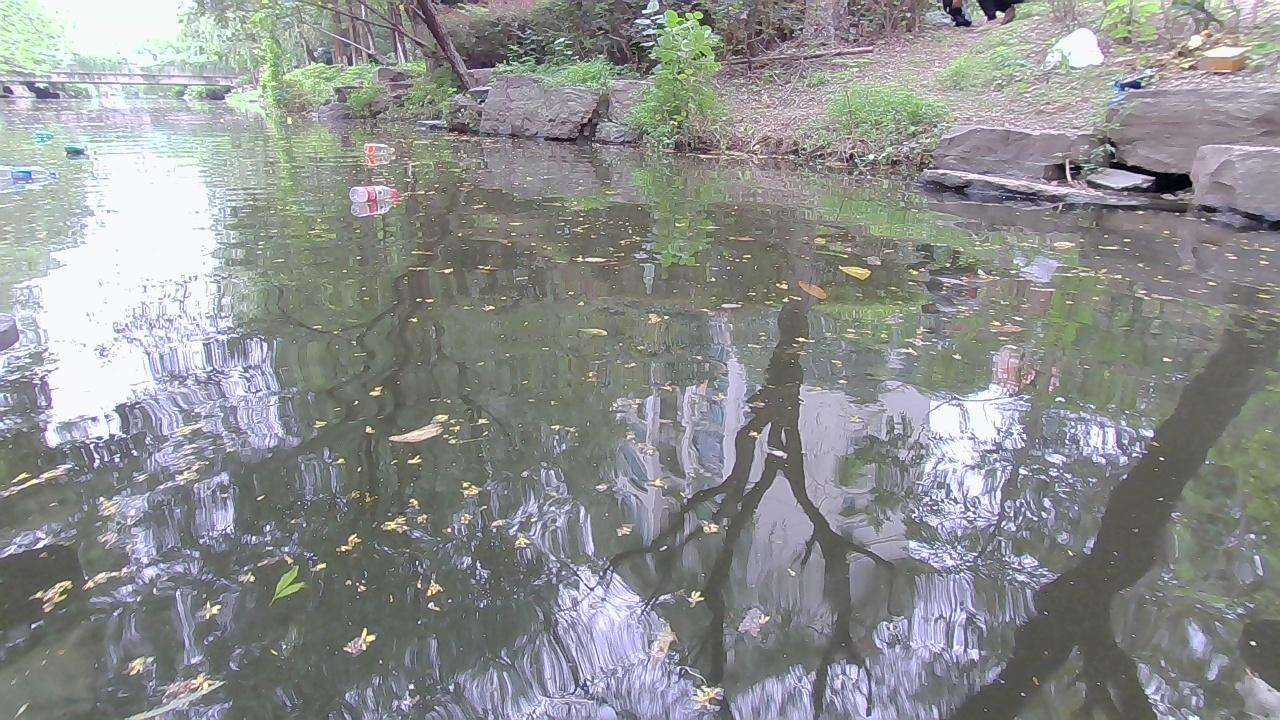bottle: (344, 181, 396, 202), (0, 165, 57, 184), (362, 141, 394, 154), (61, 141, 86, 154), (31, 129, 53, 138), (281, 114, 290, 121)
